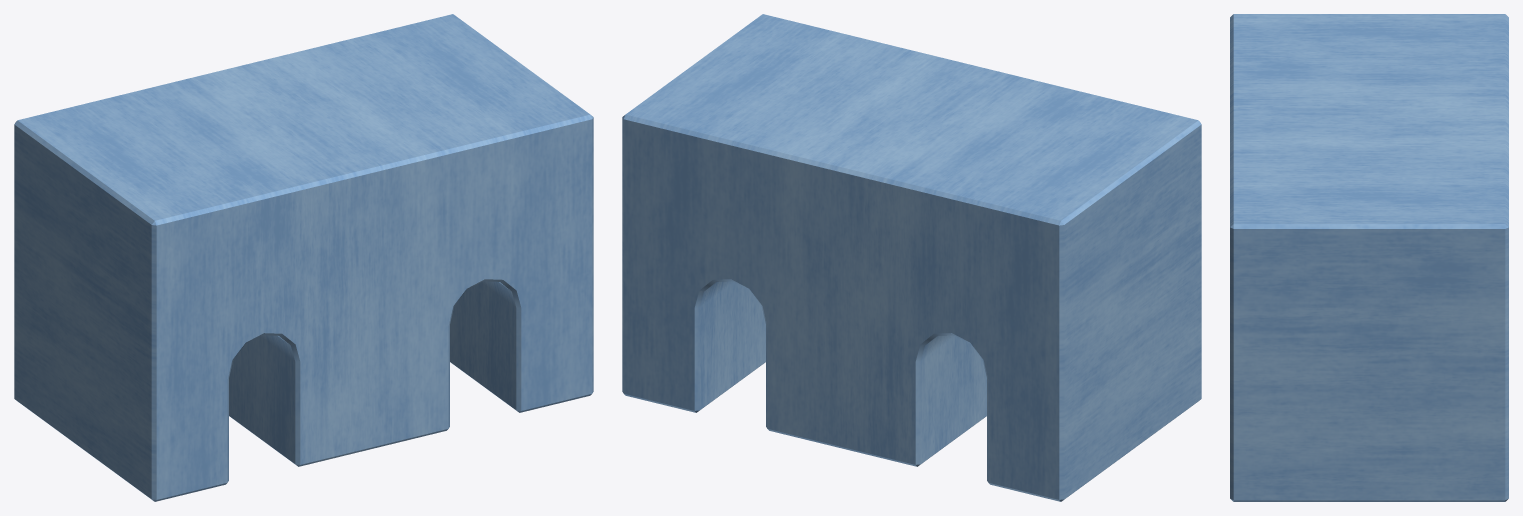
File: houseblock4-3.fbx
3 renders of one model, left to right at view 1: azimuth 30°, elevation 25°; view 2: azimuth 150°, elevation 25°; view 3: azimuth 270°, elevation 25°, orthographic.
Parts seen in each view (by area): view 1: houseblock4; view 2: houseblock4; view 3: houseblock4.
Boxes of the visible parts, left/top/right/bottom form: houseblock4: left=14, top=14, right=593, bottom=501; houseblock4: left=622, top=14, right=1201, bottom=501; houseblock4: left=1230, top=14, right=1508, bottom=501.
Bounding box in the file's own units: 1.78 × 1.08 × 0.9853.
